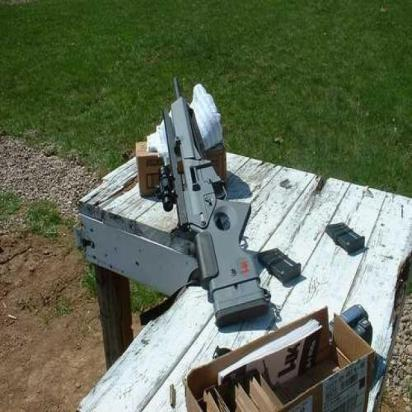Gun: (155, 82, 262, 314)
